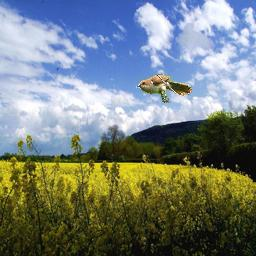Cuckoo: (136, 75, 192, 104)
